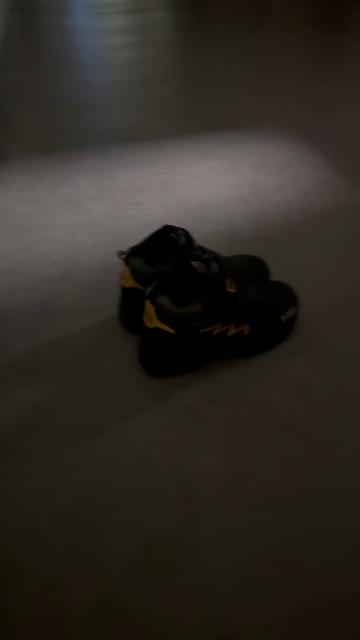shoe_worn: (117, 224, 272, 333), (135, 279, 299, 382)
